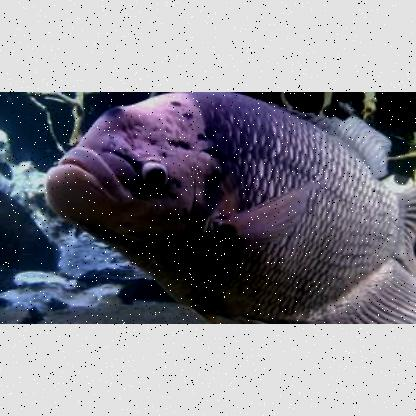gurame: (44, 91, 416, 323)
